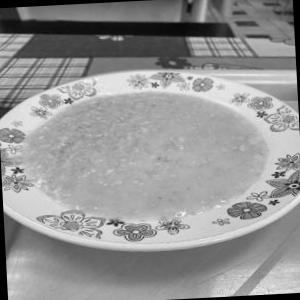porridge: (11, 63, 276, 251)
